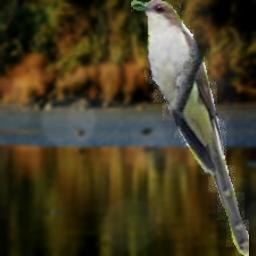Cuckoo: (131, 0, 249, 256)
